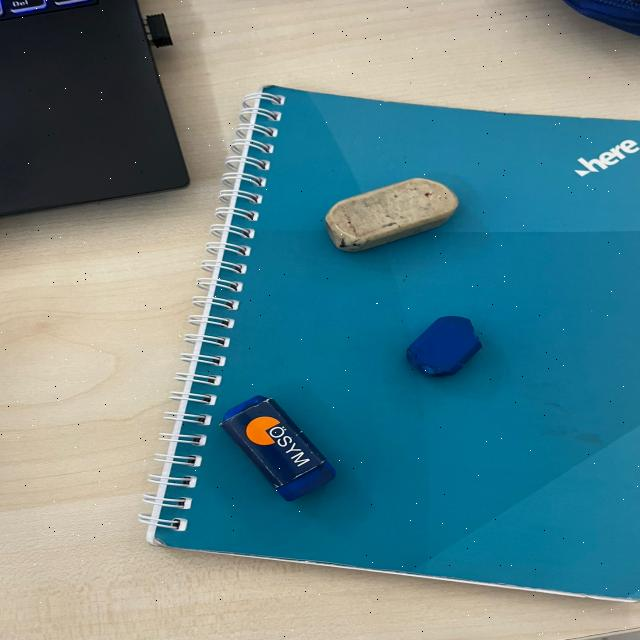eraser: (205, 388, 347, 506), (320, 168, 470, 262), (394, 311, 490, 382)
